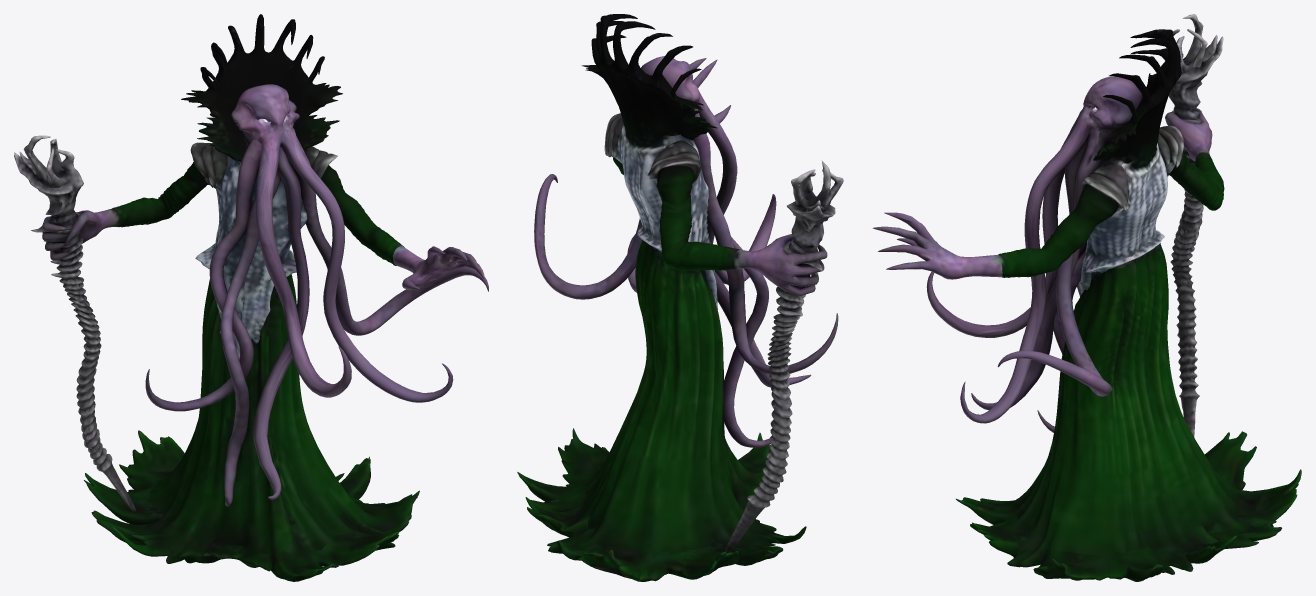
File: MZ4250 - Ulitharid_2.glb
The picture shows the model from 3 angles, left to right: view 1: azimuth 30°, elevation 25°; view 2: azimuth 150°, elevation 25°; view 3: azimuth 270°, elevation 25°; orthographic projection. The views are drawn at different scales.
Visible parts, largest first — view 1: Midus.001; view 2: Midus.001; view 3: Midus.001.
Boxes of the visible parts, x1,y1,x2,y2 form: Midus.001: (14, 14, 488, 581); Midus.001: (517, 14, 843, 581); Midus.001: (872, 14, 1301, 581).
Size of the model in its own units: 120 by 156 by 120.
Materials: 1 (1 with a texture image).
